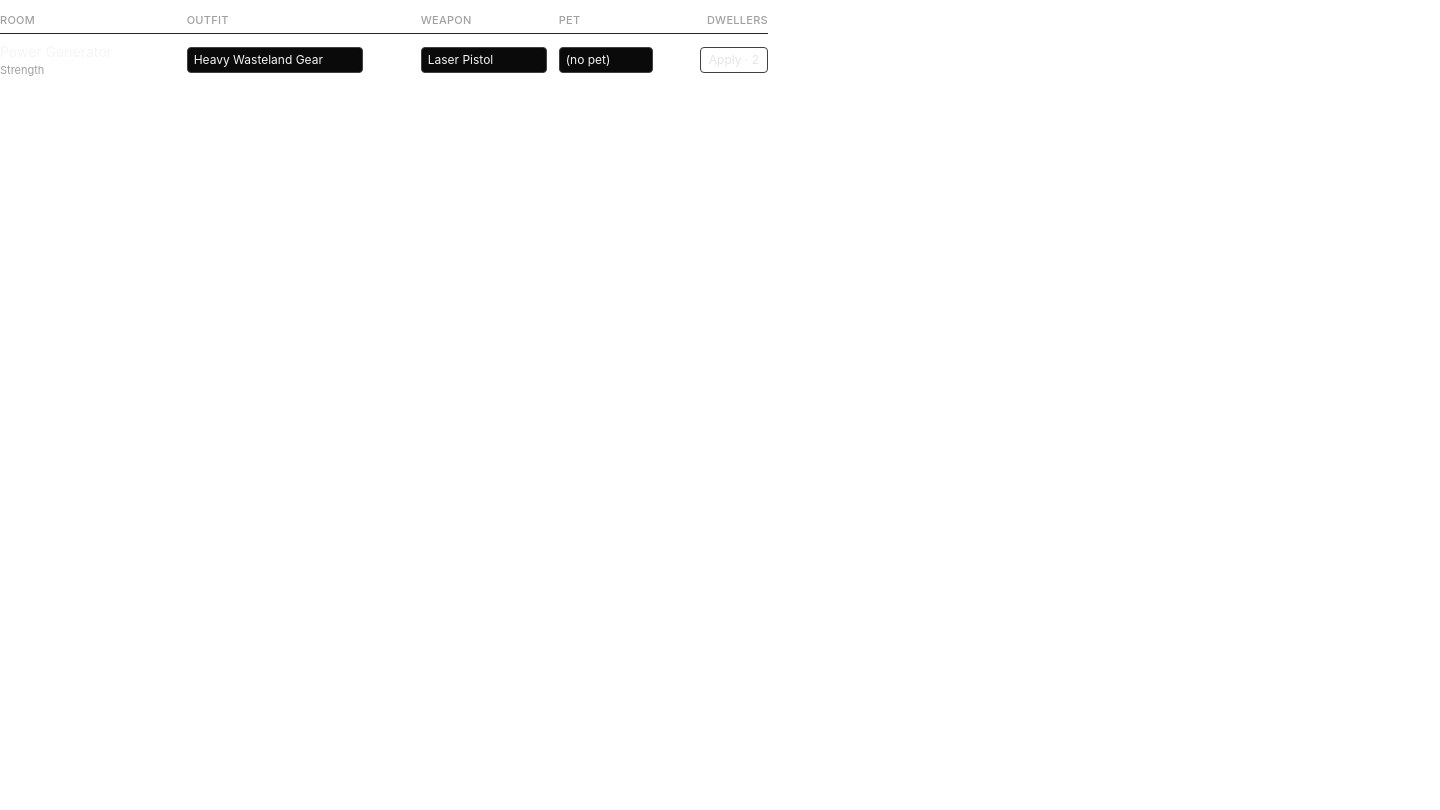
Test: LoadoutPanel - searchable pickers › clears a slot via the picker reset action
The width and height of the screenshot is (1440, 810).
What coordinates should you click on to do the following:
click the button with aria-label "Power Generator weapon"
I would click on:
 (484, 60)
Its box is [421,47,547,73].
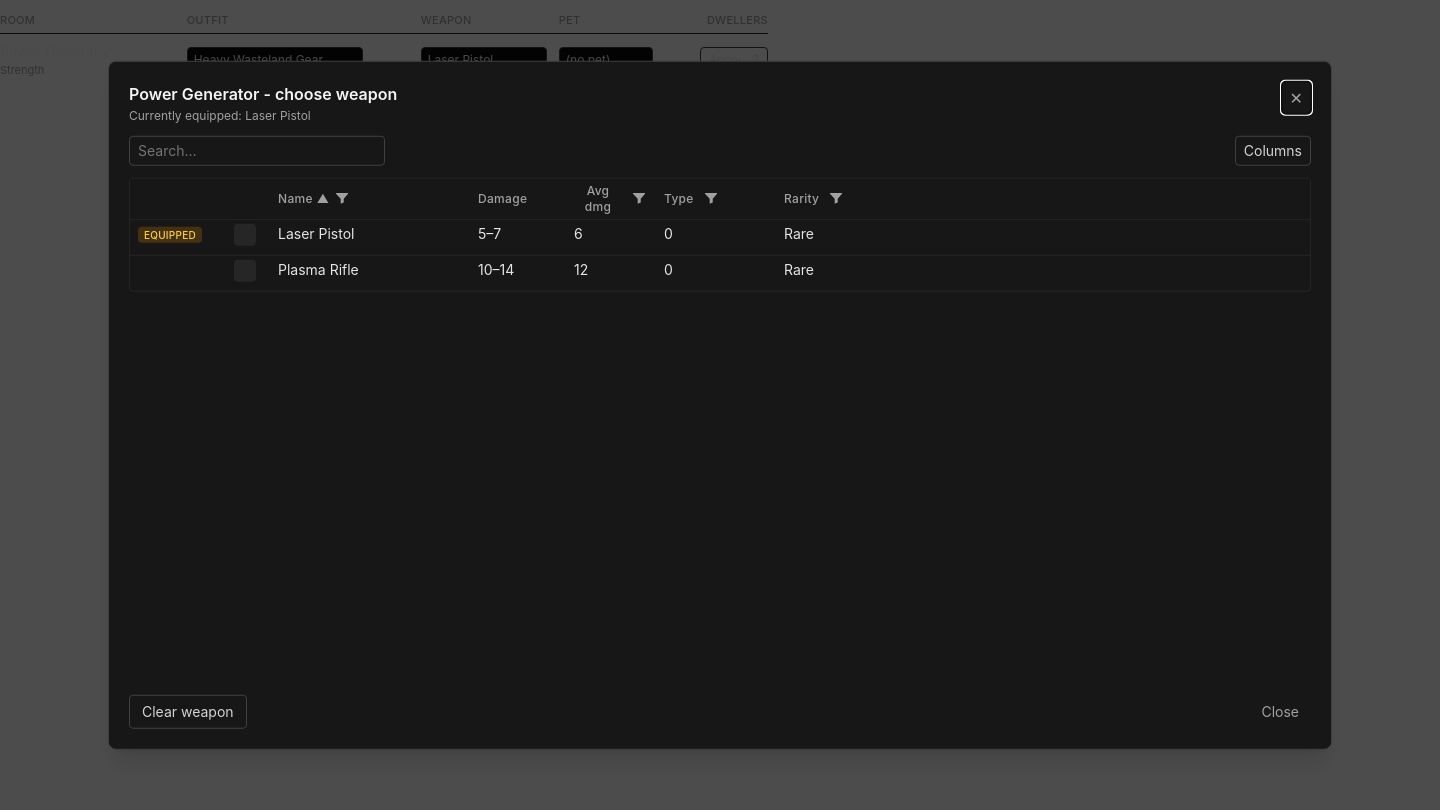
What coordinates should you click on to do the following:
click the button "Clear weapon"
I would click on:
 (188, 711)
Its box is [129,694,247,728].
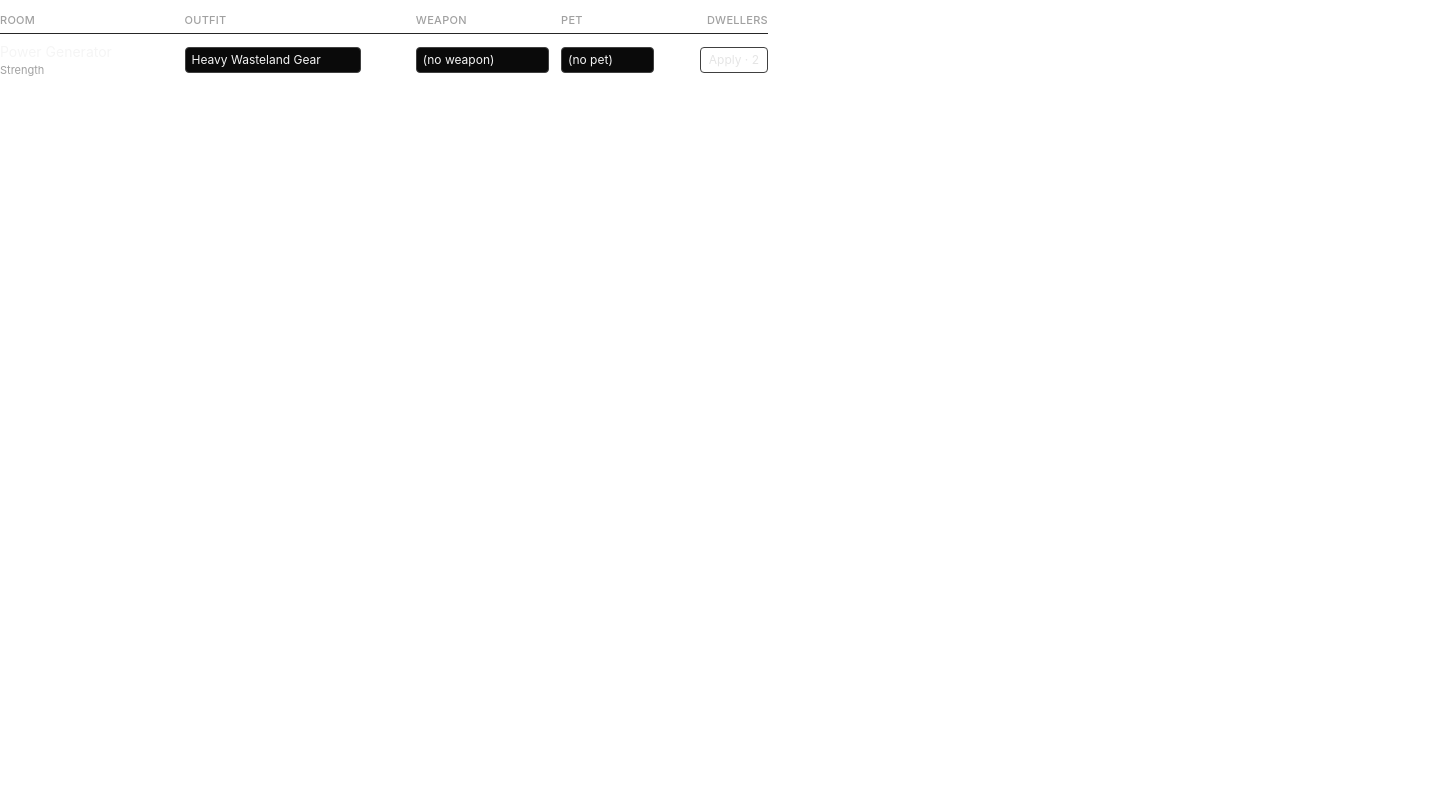
Result: the button with aria-label "Power Generator weapon" reads "(no weapon)" at [416,47,549,73]
